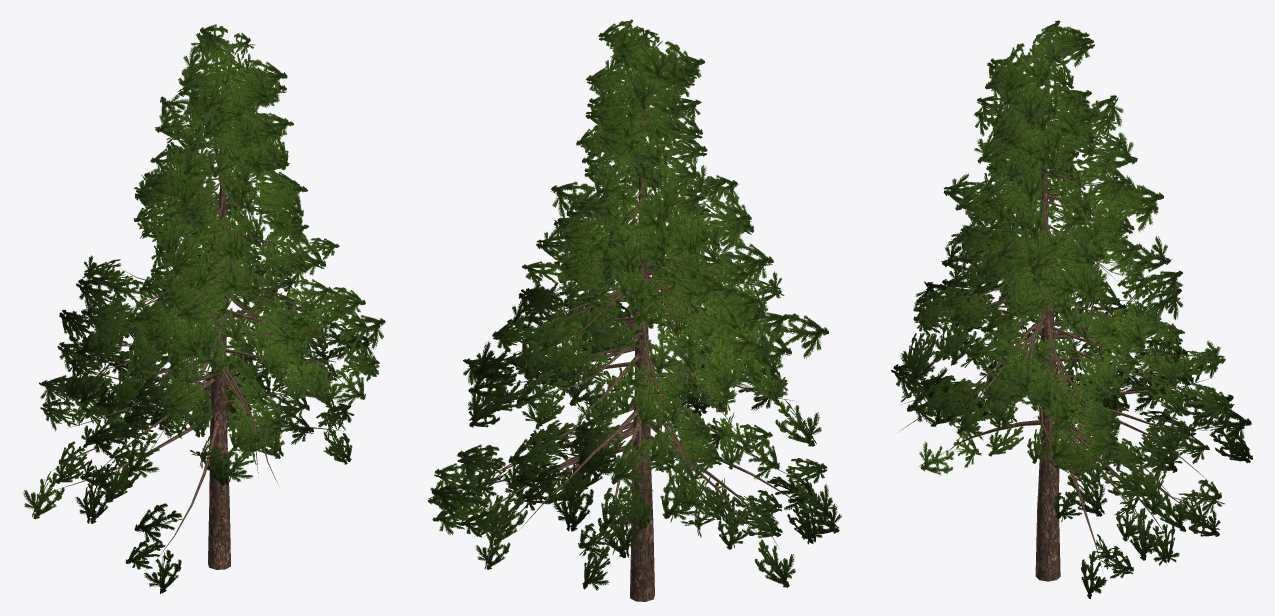
The model's file is terraintale-fir_tree.glb.
3 renders of one model, left to right at view 1: azimuth 30°, elevation 25°; view 2: azimuth 150°, elevation 25°; view 3: azimuth 270°, elevation 25°, orthographic. The views are drawn at different scales.
Visible parts, largest first — view 1: fir_tree; view 2: fir_tree; view 3: fir_tree.
Part boxes in pixels (x1,y1,x2,y2): fir_tree: (23,24,385,593); fir_tree: (427,19,841,601); fir_tree: (891,20,1252,598).
Size of the model in its own units: 3.05 by 4.58 by 2.82.
Materials: 2 (2 with a texture image).
